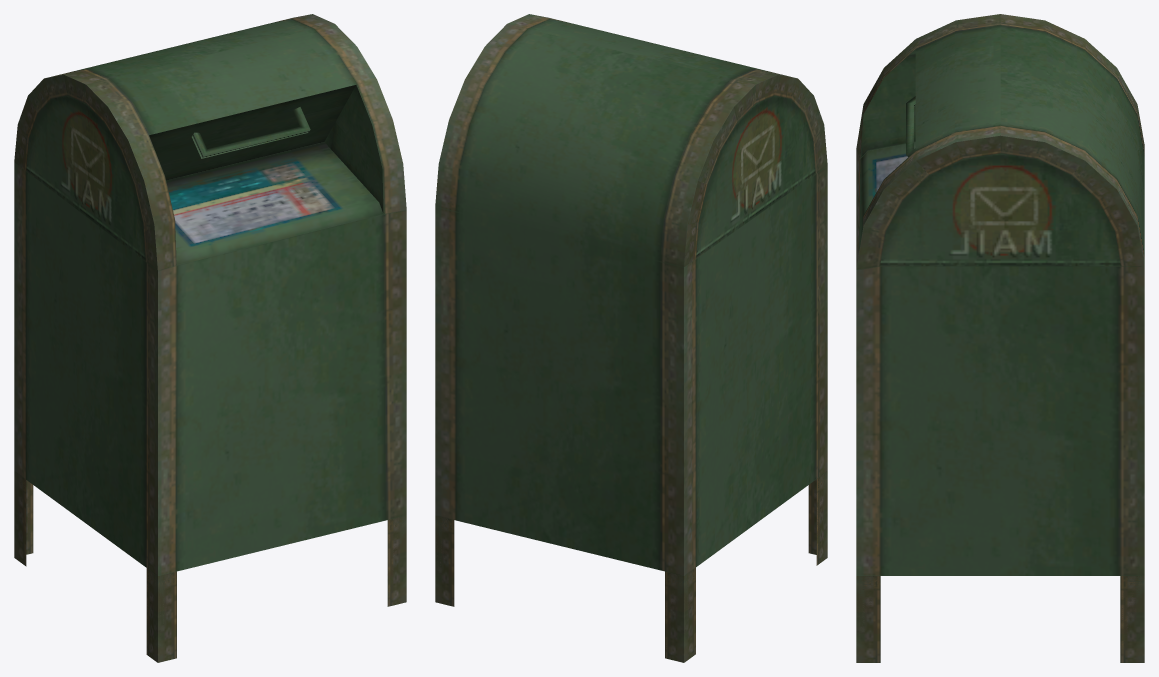
Rendered from bluemailbox.fbx.
3 views of the same model, side by side, from view 1: azimuth 30°, elevation 25°; view 2: azimuth 150°, elevation 25°; view 3: azimuth 270°, elevation 25° (orthographic).
Parts seen in each view (by area): view 1: mesh_0; view 2: mesh_0; view 3: mesh_0.
Part boxes in pixels (left/top/right/bottom): mesh_0: left=14, top=14, right=406, bottom=662; mesh_0: left=435, top=14, right=827, bottom=662; mesh_0: left=856, top=14, right=1144, bottom=662.
Size of the model in its own units: 60 by 121 by 60.
1 material, 1 textured.
